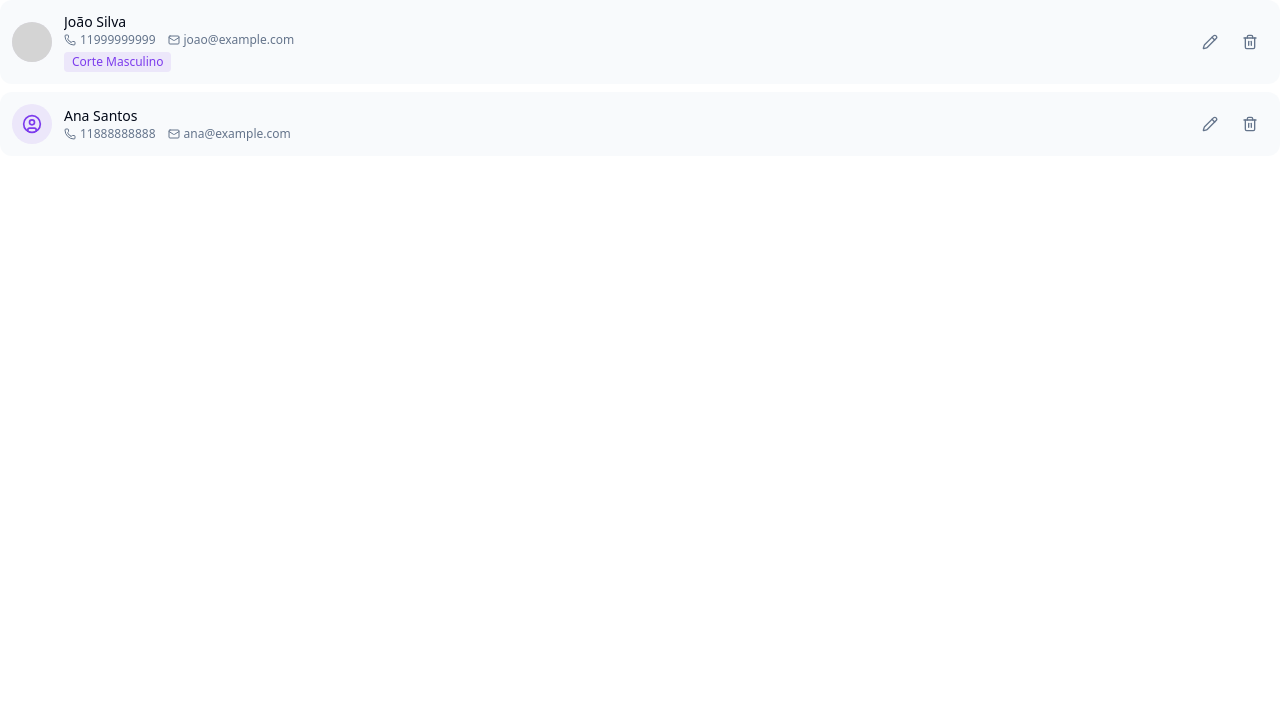
Test: ProfessionalList › with professionals › should open delete confirmation when delete button is clicked
Click the button named "delete" in the row of "joao@example.com".
click(1250, 42)  # box x1=1232 y1=24 x2=1268 y2=60
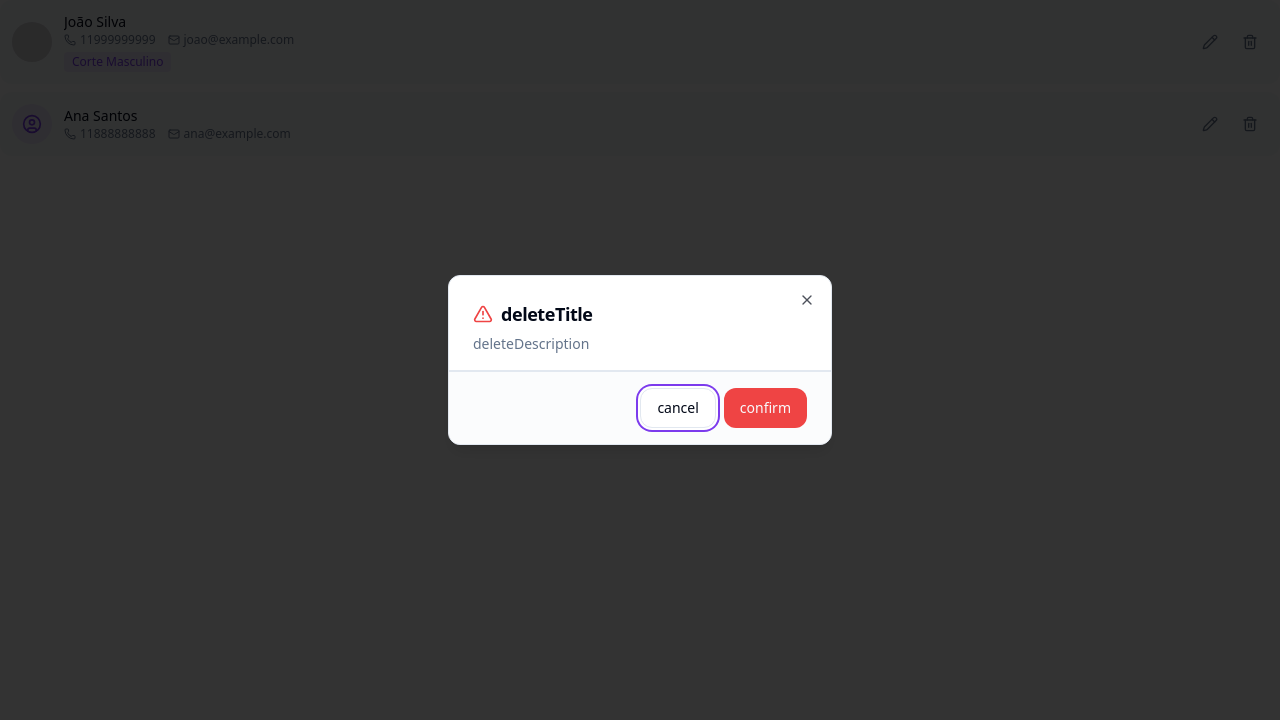
Expected: the heading "deleteTitle" is shown, x1=473 y1=302 x2=592 y2=326
